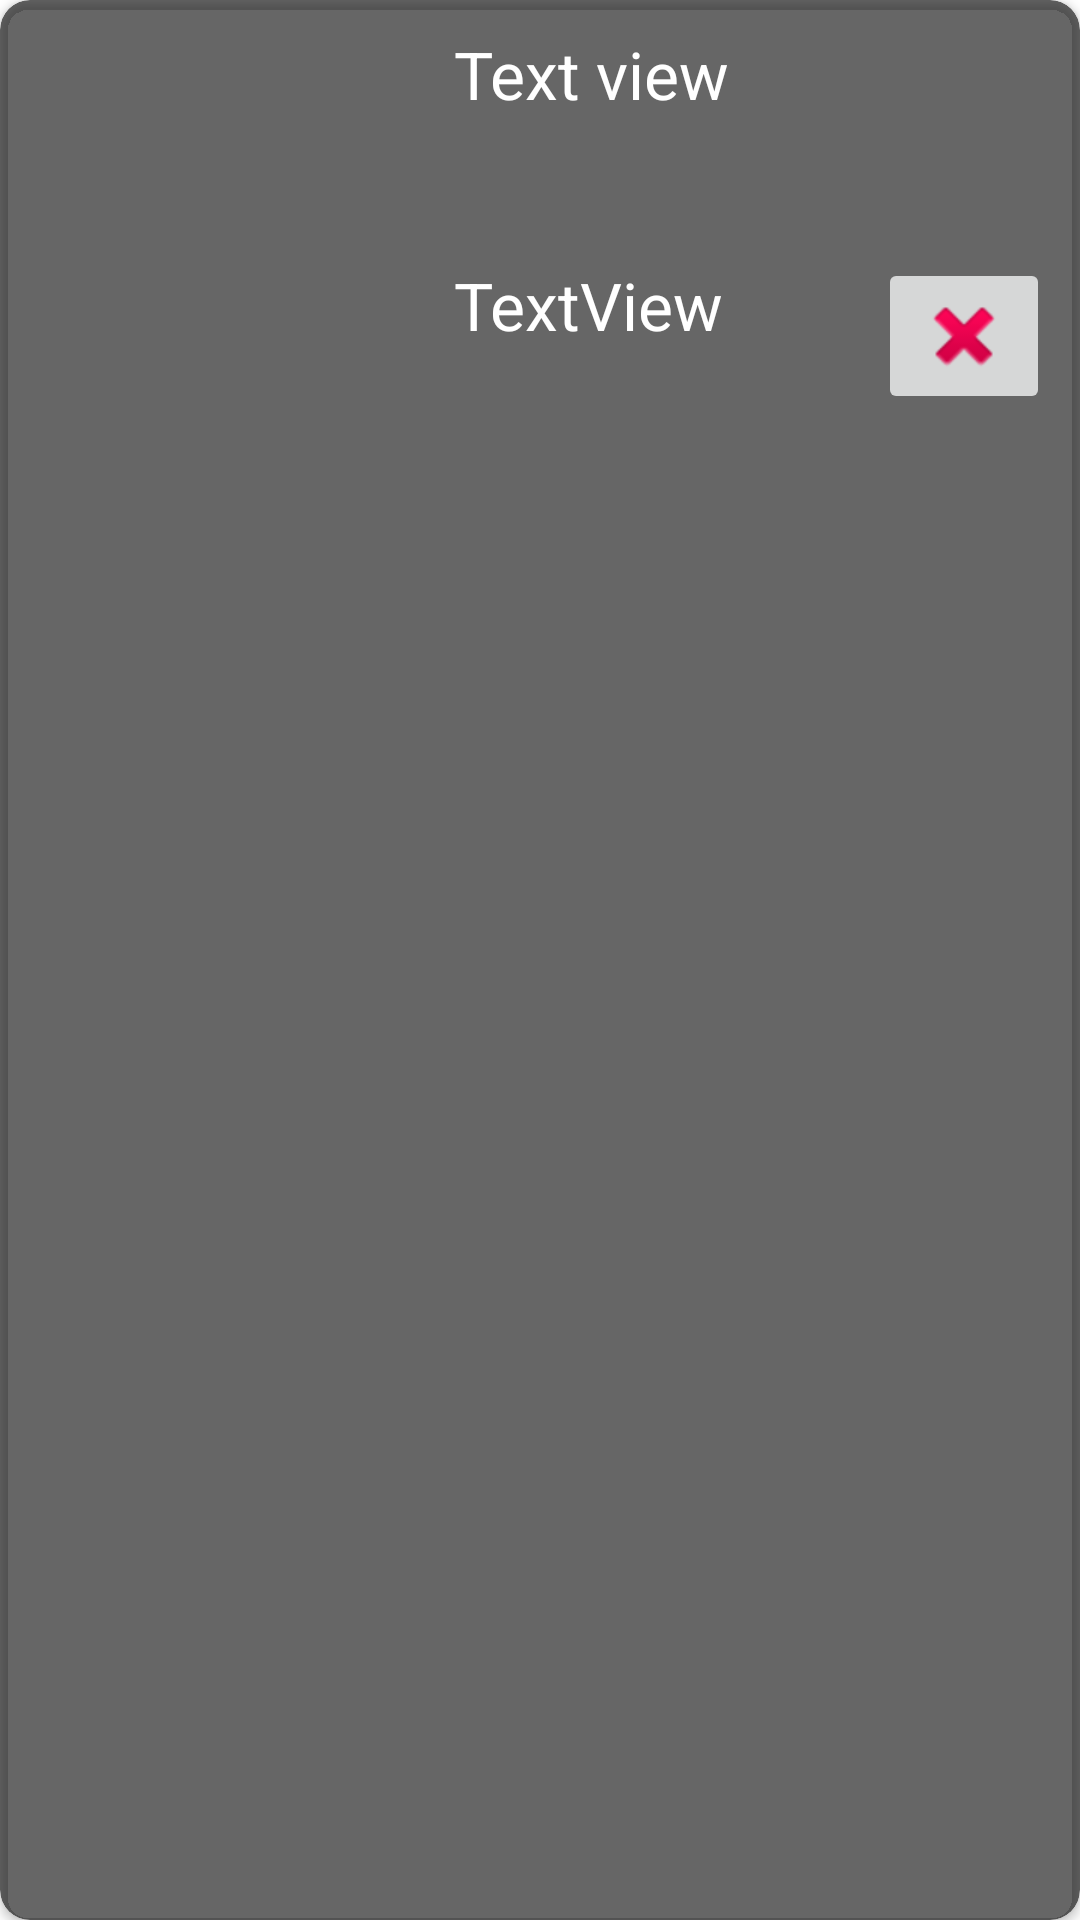

Icons on this 1080px x 1920px Android screen, each with its box as box=[x1, y1, x2, y2]:
delete: box=[890, 276, 1038, 396]
